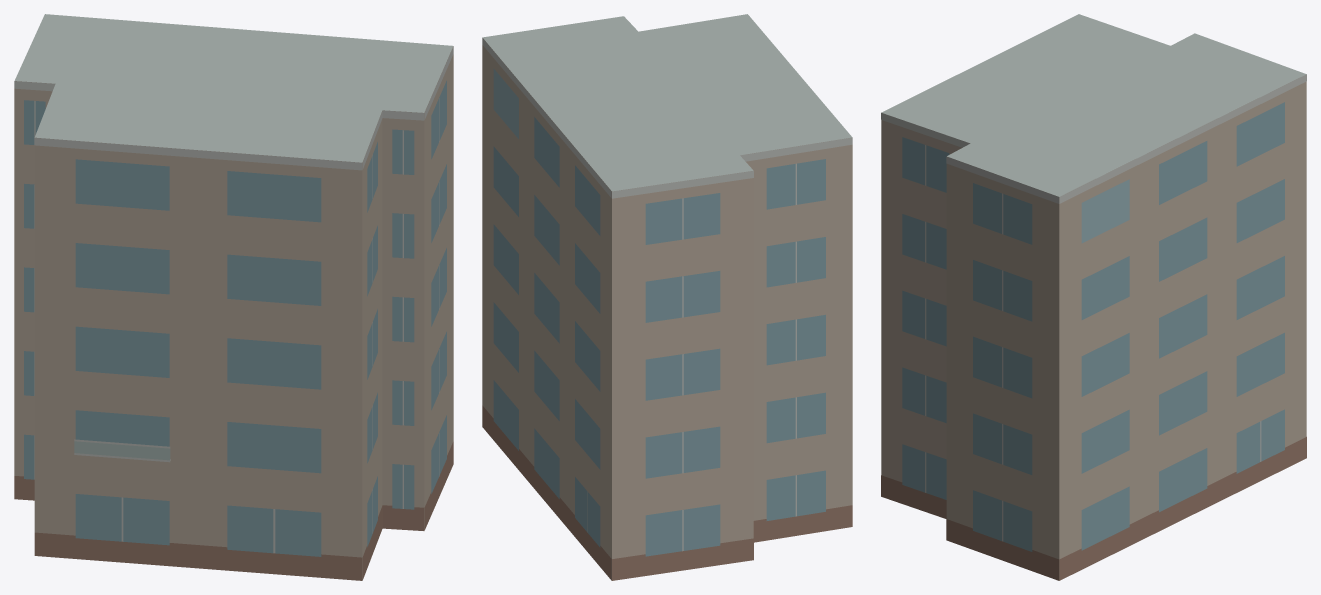
The model's file is survey-upis-32716213.glb.
The picture shows the model from 3 angles, left to right: view 1: azimuth 30°, elevation 25°; view 2: azimuth 150°, elevation 25°; view 3: azimuth 270°, elevation 25°; orthographic projection. The views are drawn at different scales.
Visible parts, largest first — view 1: survey-upis-32716213.tmp; view 2: survey-upis-32716213.tmp; view 3: survey-upis-32716213.tmp.
Boxes of the visible parts, bbox=[...] form: survey-upis-32716213.tmp: bbox=[14, 14, 453, 580]; survey-upis-32716213.tmp: bbox=[482, 14, 852, 580]; survey-upis-32716213.tmp: bbox=[881, 14, 1306, 580].
Size of the model in its own units: 13.39 by 13.1 by 13.16.
